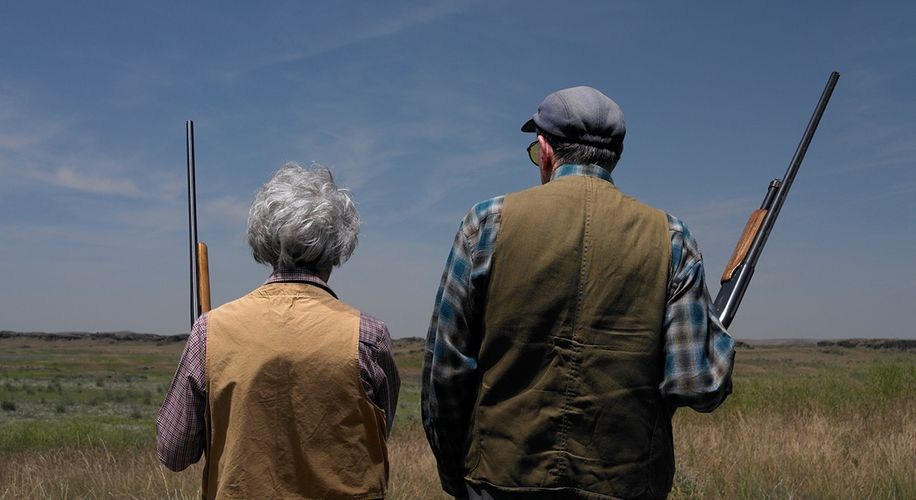rifle: (709, 51, 842, 379), (160, 113, 218, 465)
